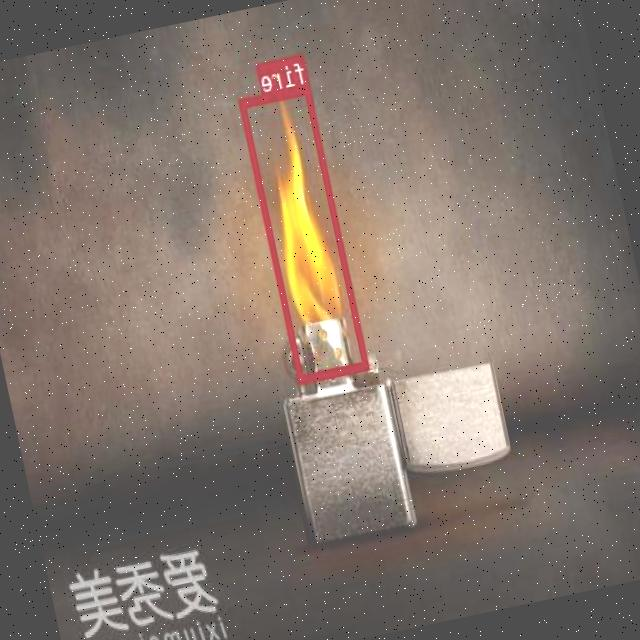fire: (240, 83, 370, 382)
